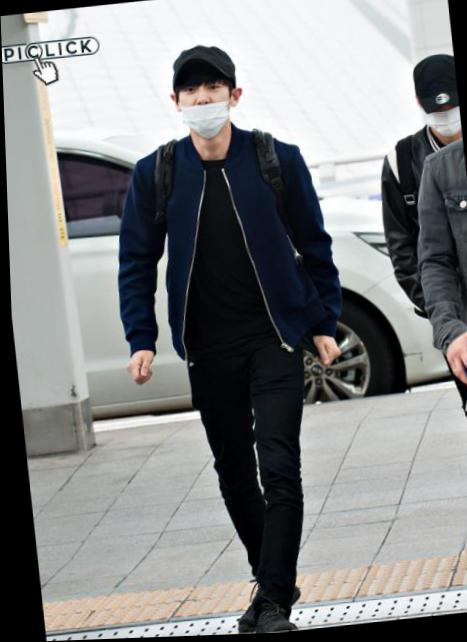WRONG: (172, 70, 243, 141)
